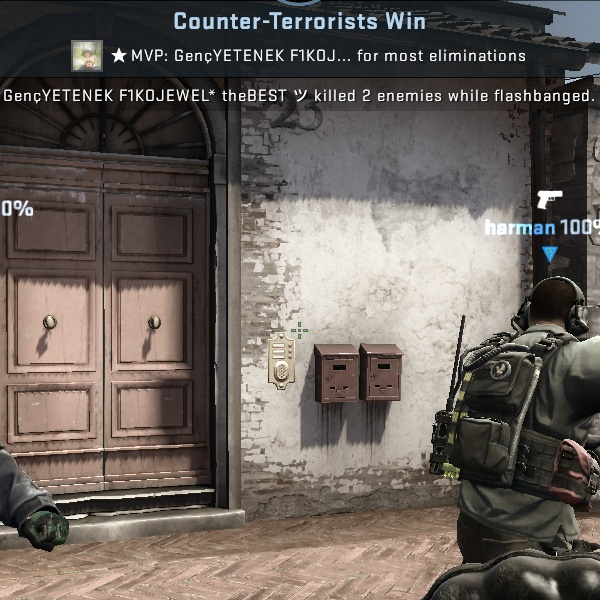ct_body: (410, 265, 596, 600)
ct_head: (501, 265, 595, 356)
